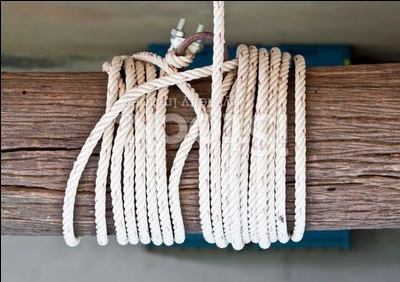9/可回收垃圾/绳子: (62, 1, 308, 251)
